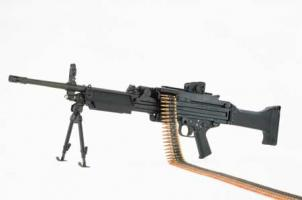Arma Real: (5, 62, 288, 168)
